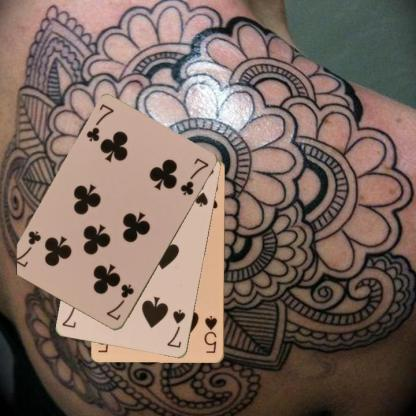5s: (202, 313, 218, 355)
7c: (84, 102, 116, 143), (104, 282, 136, 322)
7s: (164, 306, 187, 350)
